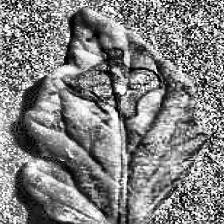disease: (20, 7, 206, 224)
